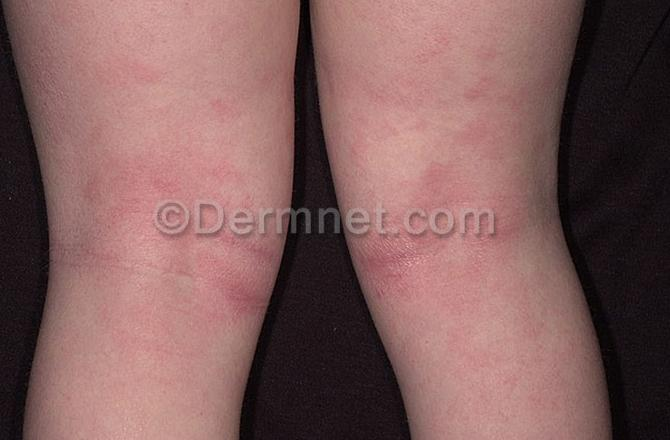eritema 1: (158, 212, 282, 318), (353, 216, 441, 304)
